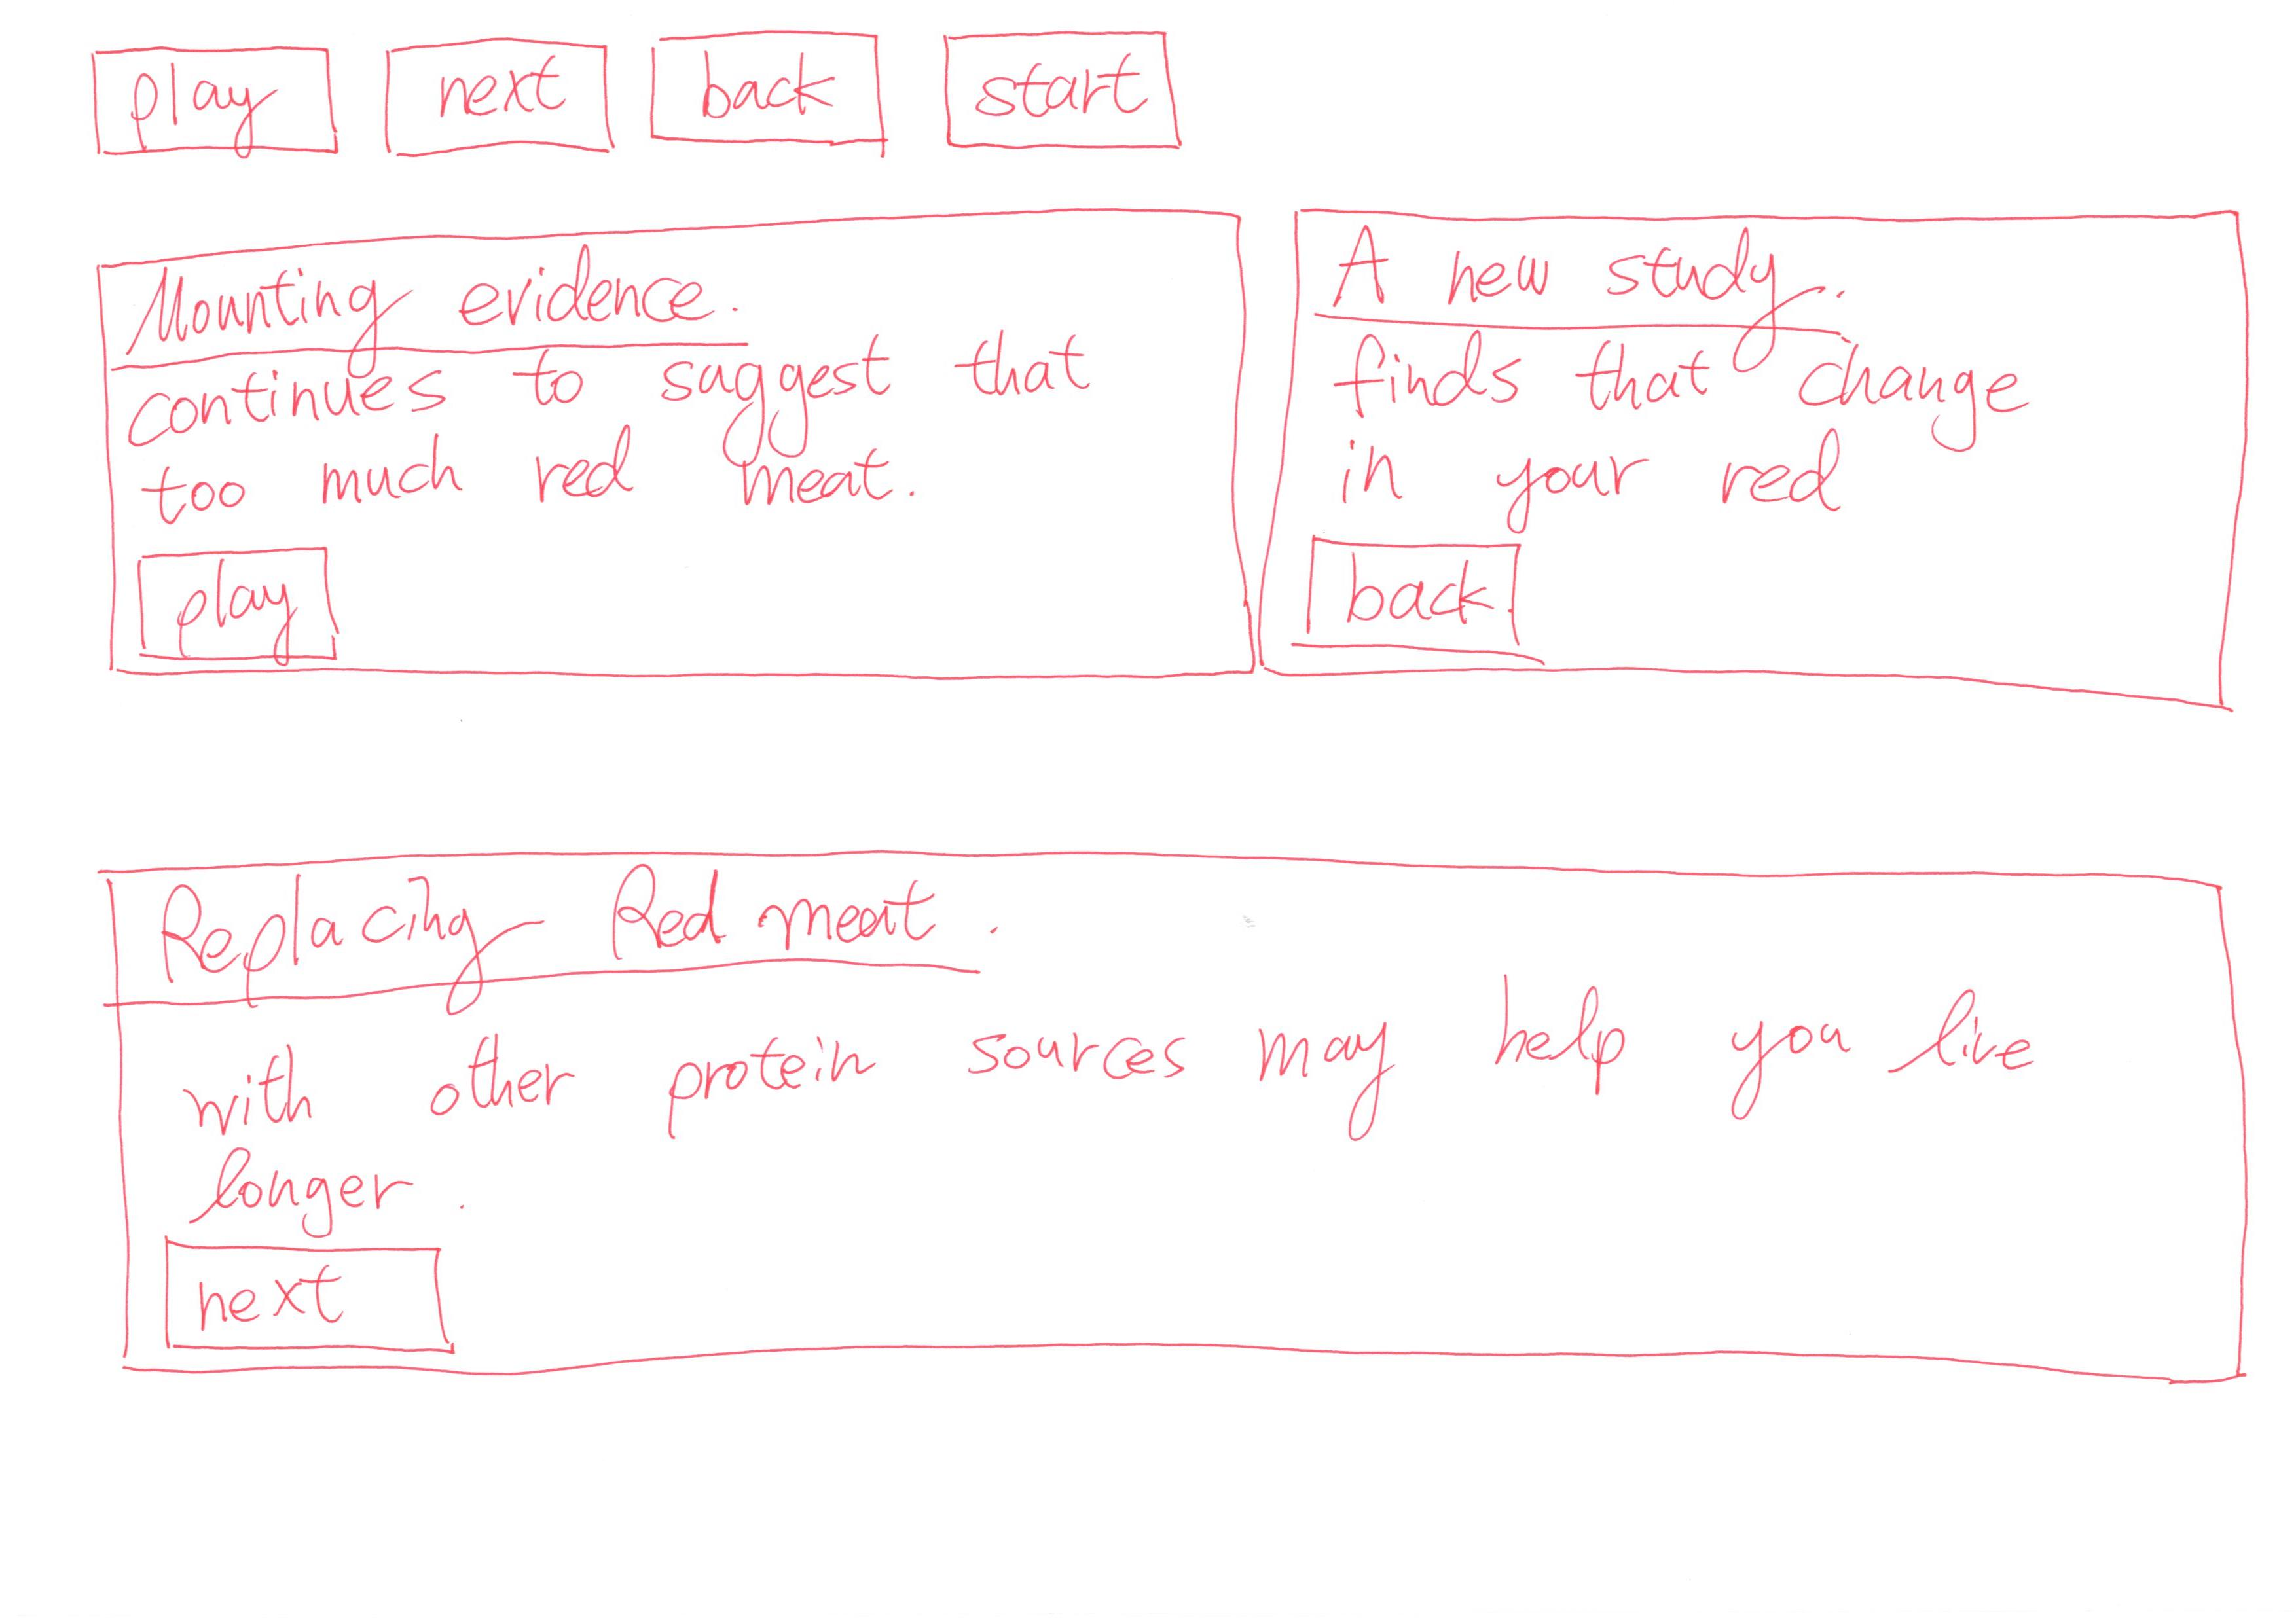back: (635, 14, 918, 190), (1290, 520, 1544, 682)
double: (62, 197, 1268, 715), (1238, 178, 2294, 745)
next: (139, 1222, 475, 1362), (378, 28, 636, 179)
play: (67, 32, 357, 185), (130, 534, 373, 687)
row: (28, 772, 2296, 1455), (28, 192, 2296, 735), (16, 11, 2296, 197)
single: (90, 810, 2296, 1425)
small-title: (114, 865, 988, 995), (1294, 209, 1813, 336), (125, 257, 735, 352)
start: (912, 18, 1211, 181)
text: (149, 1018, 2089, 1216), (149, 346, 1085, 529), (1341, 329, 2094, 524)
